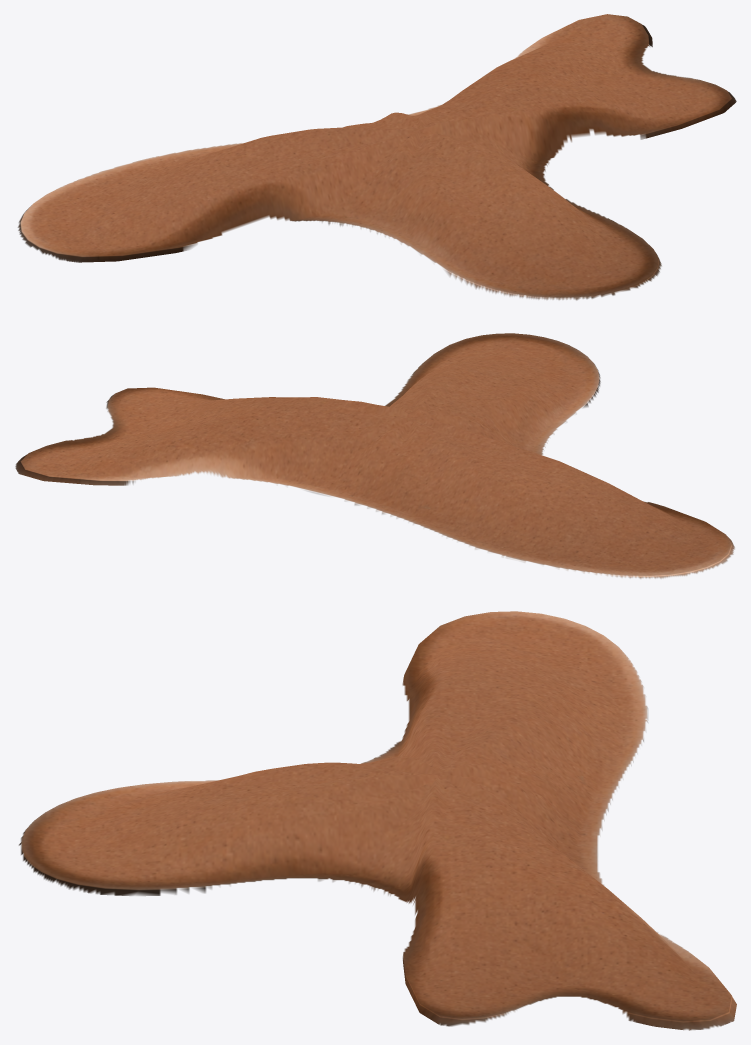
Rendered from dirt_6.glb.
3 views of the same model, one above another, from view 1: azimuth 30°, elevation 25°; view 2: azimuth 150°, elevation 25°; view 3: azimuth 270°, elevation 25° (orthographic). The views are drawn at different scales.
Visible parts, largest first — view 1: dirt_6; view 2: dirt_6; view 3: dirt_6.
Part boxes in pixels (x1,y1,x2,y2): dirt_6: (17, 14, 736, 300); dirt_6: (15, 333, 734, 579); dirt_6: (19, 611, 736, 1030).
Bounding box in the file's own units: 0.8631 × 0.0631 × 0.6324.
Materials: 1 (1 with a texture image).
